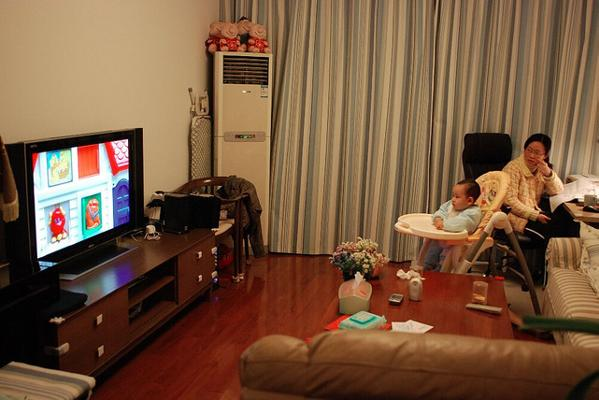person: (421, 178, 483, 272)
